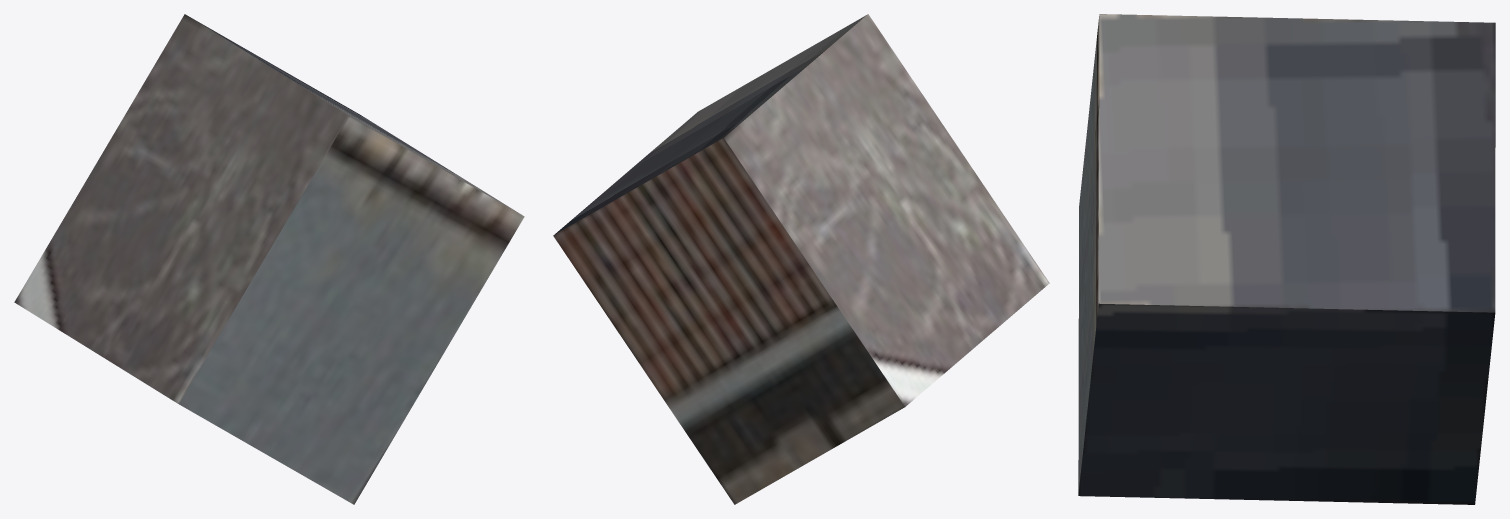
3 renders of one model, left to right at view 1: azimuth 30°, elevation 25°; view 2: azimuth 150°, elevation 25°; view 3: azimuth 270°, elevation 25°, orthographic. The views are drawn at different scales.
Parts seen in each view (by area): view 1: BAG_0599100100019947; view 2: BAG_0599100100019947; view 3: BAG_0599100100019947.
Part boxes in pixels (x1,y1,x2,y2): BAG_0599100100019947: (14, 14, 524, 504); BAG_0599100100019947: (553, 14, 1049, 504); BAG_0599100100019947: (1078, 14, 1495, 504).
Size of the model in its own units: 3.33 by 3.46 by 2.63.
Materials: 1 (1 with a texture image).
